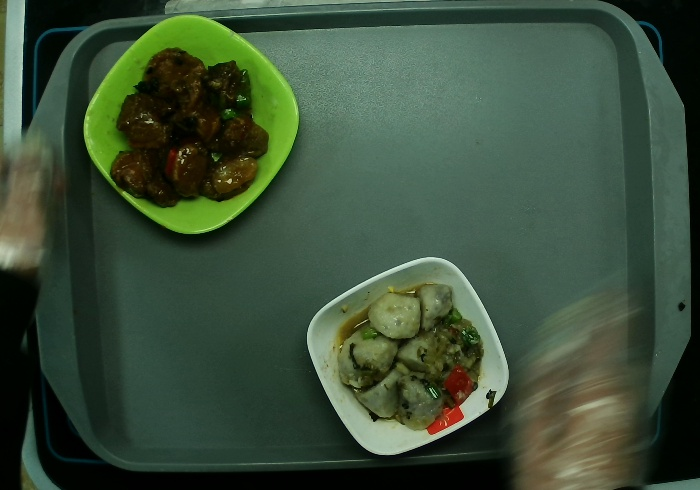SHKJ-Bai_Se_Xiao_Fang_Die: (306, 257, 511, 456)
SHKJ-Lv_Se_Cai_Die: (83, 14, 301, 234)
